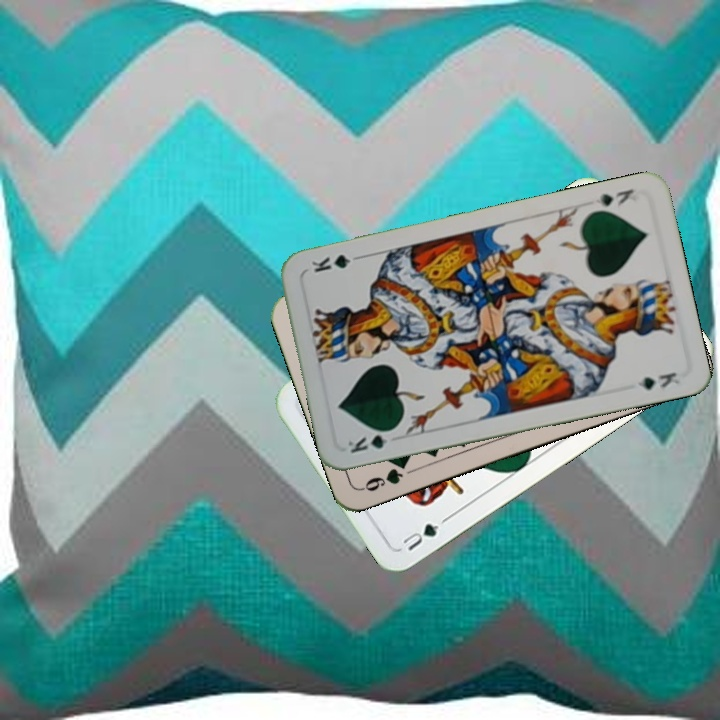G9: (357, 456, 411, 494)
GK: (343, 425, 399, 456), (592, 185, 636, 209)
GU: (398, 519, 442, 554)
